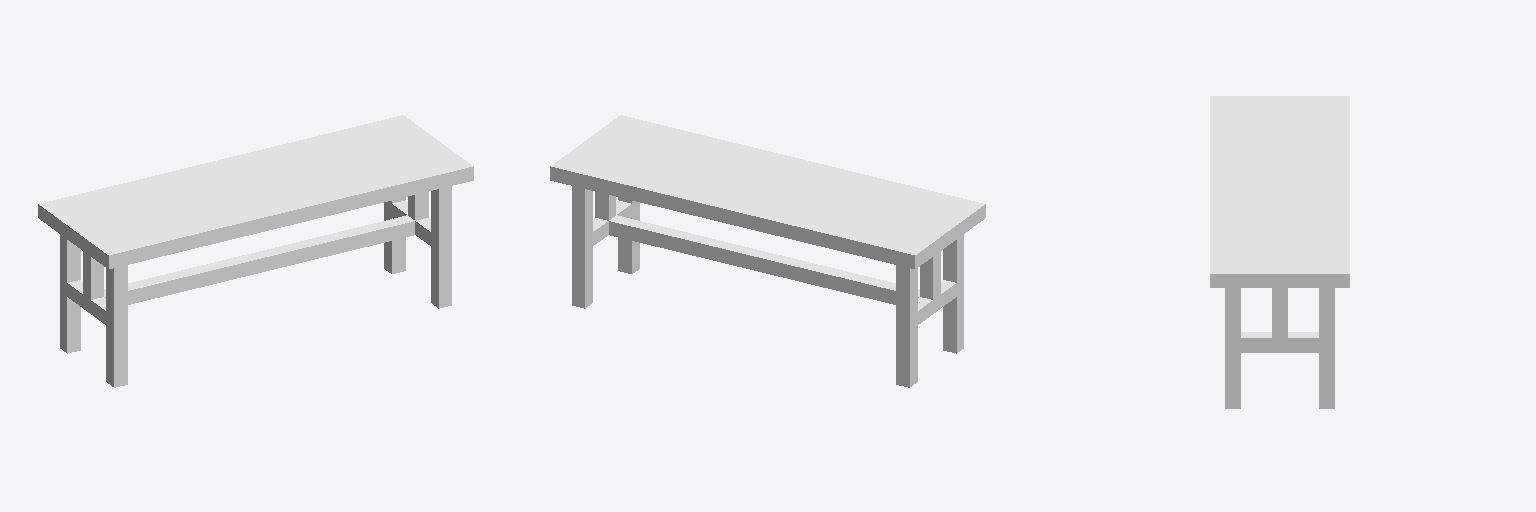
The model's file is table.obj.
3 renders of one model, left to right at view 1: azimuth 30°, elevation 25°; view 2: azimuth 150°, elevation 25°; view 3: azimuth 270°, elevation 25°, orthographic.
Bounding box in the file's own units: 27 × 10 × 9.